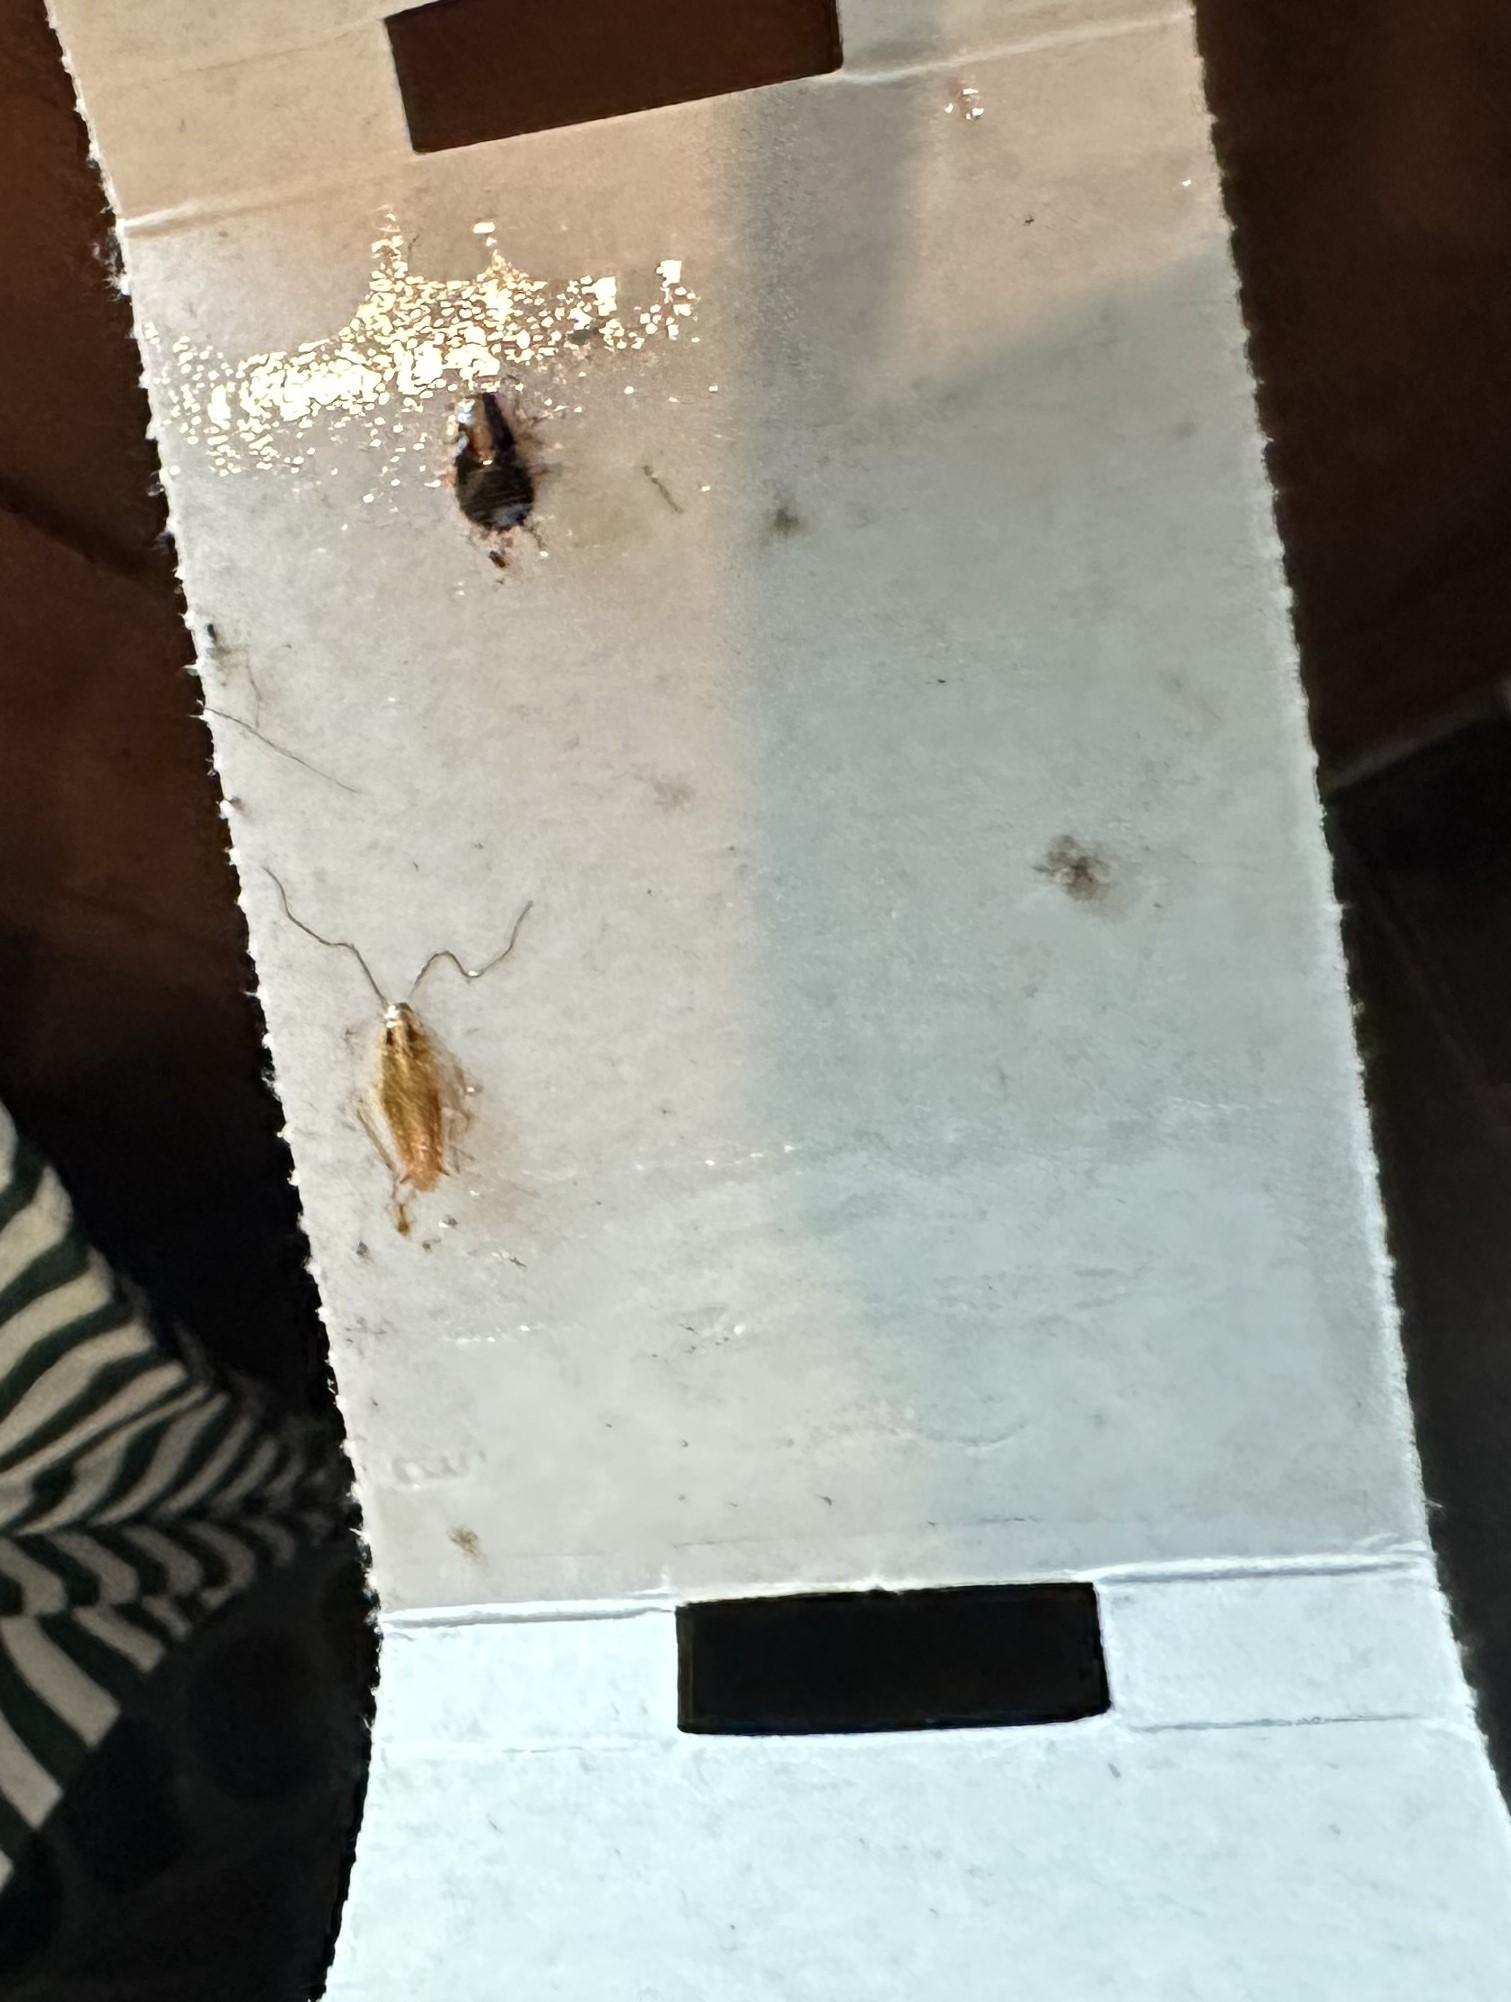cockroach: (195, 811, 627, 1287), (370, 332, 590, 579)
